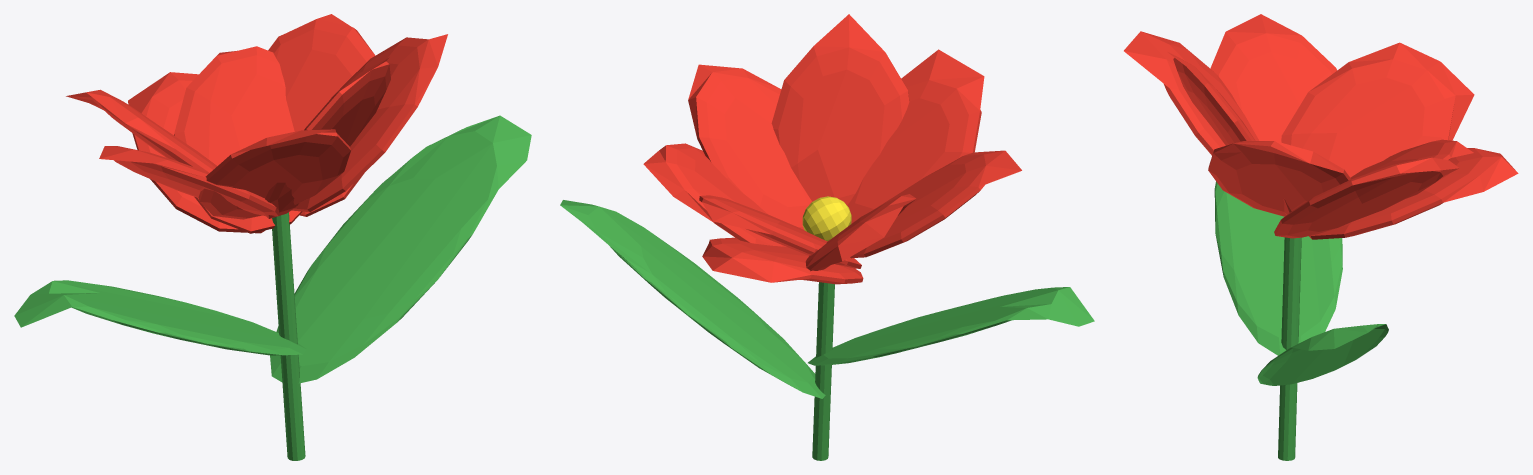
Rendered from flower.glb.
The picture shows the model from 3 angles, left to right: view 1: azimuth 30°, elevation 25°; view 2: azimuth 150°, elevation 25°; view 3: azimuth 270°, elevation 25°; orthographic projection. The views are drawn at different scales.
Parts seen in each view (by area): view 1: group632163950, group279081239, rose, group341342680, group1598894503, group726883720, group1800673276, group1860435482, group549322403, group665637453, group290790927; view 2: group1860435482, group632163950, group726883720, group341342680, rose, group549322403, group1598894503, group665637453, group279081239, group290790927, group1800673276, group1492198814; view 3: group290790927, rose, group549322403, group726883720, group1598894503, group665637453, group341342680, group632163950, group1800673276, group1860435482, group279081239.
Boxes of the visible parts, <box> form: group632163950: <box>270,115,531,383</box>; group279081239: <box>174,46,302,233</box>; rose: <box>14,280,306,355</box>; group341342680: <box>198,129,350,219</box>; group1598894503: <box>268,14,375,216</box>; group726883720: <box>291,34,447,212</box>; group1800673276: <box>272,212,305,460</box>; group1860435482: <box>265,57,390,218</box>; group549322403: <box>99,146,279,216</box>; group665637453: <box>128,72,265,233</box>; group290790927: <box>66,89,217,172</box>; group1860435482: <box>771,14,909,205</box>; group632163950: <box>560,200,825,398</box>; group726883720: <box>688,64,811,229</box>; group341342680: <box>847,49,984,223</box>; rose: <box>808,287,1094,365</box>; group549322403: <box>850,150,1021,258</box>; group1598894503: <box>643,143,786,246</box>; group665637453: <box>702,237,863,284</box>; group279081239: <box>699,195,861,268</box>; group290790927: <box>805,194,916,271</box>; group1800673276: <box>812,282,834,460</box>; group1492198814: <box>802,196,851,241</box>; group290790927: <box>1281,42,1474,177</box>; rose: <box>1214,181,1342,355</box>; group549322403: <box>1210,14,1336,142</box>; group726883720: <box>1208,141,1350,216</box>; group1598894503: <box>1274,157,1459,238</box>; group665637453: <box>1309,148,1518,239</box>; group341342680: <box>1124,31,1259,155</box>; group632163950: <box>1257,324,1388,385</box>; group1800673276: <box>1278,237,1301,460</box>; group1860435482: <box>1167,52,1291,214</box>; group279081239: <box>1350,139,1473,179</box>.
Bounding box in the file's own units: 0.7241 × 0.5516 × 0.469.
